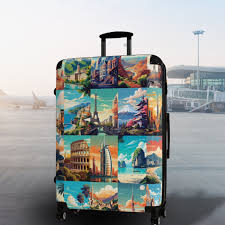suitcase: (52, 31, 173, 225)
